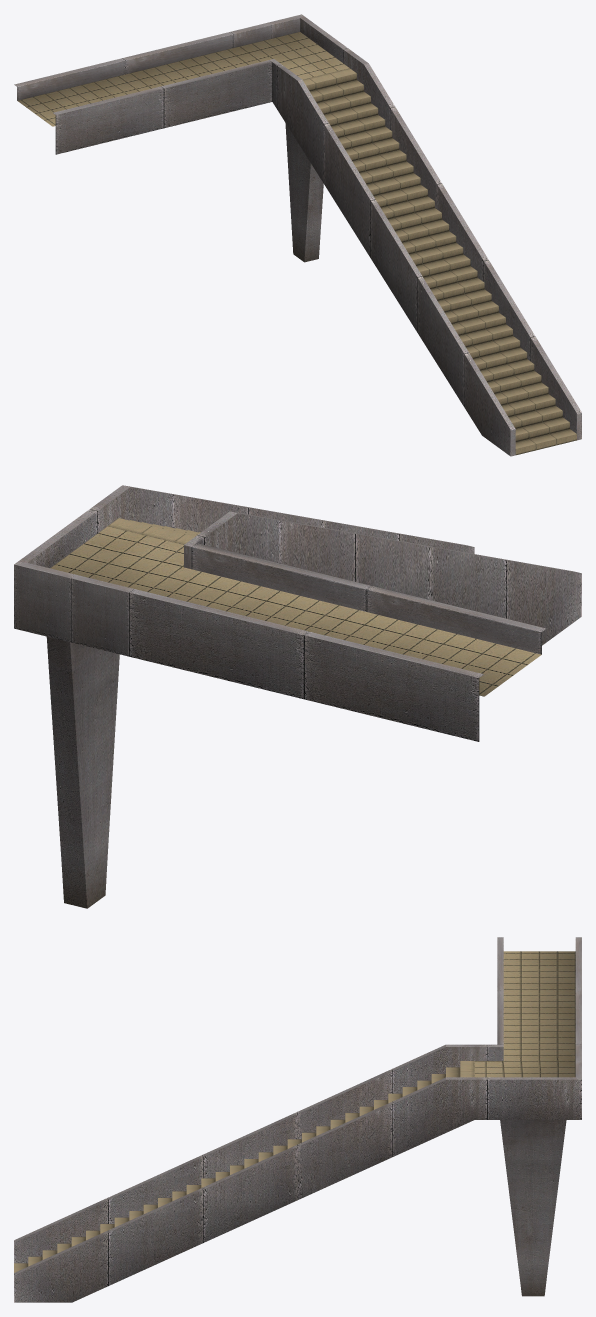
Rendered from M10Z1_FootBridge01A.glb.
3 views of the same model, one above another, from view 1: azimuth 30°, elevation 25°; view 2: azimuth 150°, elevation 25°; view 3: azimuth 270°, elevation 25° (orthographic). The views are drawn at different scales.
Parts seen in each view (by area): view 1: M10Z1_FOOTBRIDGE01A; view 2: M10Z1_FOOTBRIDGE01A; view 3: M10Z1_FOOTBRIDGE01A.
Boxes of the visible parts, <box> form: M10Z1_FOOTBRIDGE01A: <box>14,14,581,456</box>; M10Z1_FOOTBRIDGE01A: <box>14,485,581,908</box>; M10Z1_FOOTBRIDGE01A: <box>14,937,581,1302</box>.
Size of the model in its own units: 11.7 by 8.54 by 19.72.
4 materials, 4 textured.
